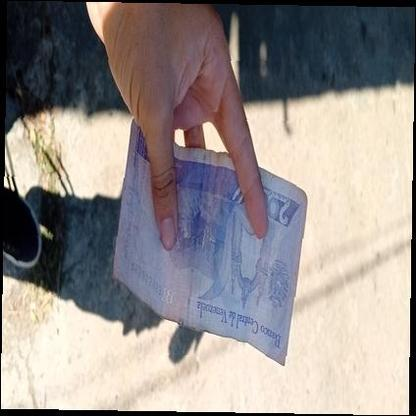ten-back-vef: (115, 118, 307, 366)
